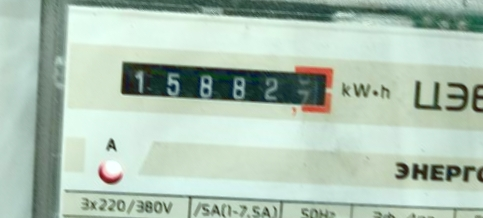1: (129, 63, 145, 92)
2: (260, 71, 278, 100)
5: (161, 66, 181, 94)
7: (292, 83, 309, 102)
8: (194, 68, 212, 98), (228, 70, 245, 99)
screen: (103, 41, 342, 120)
